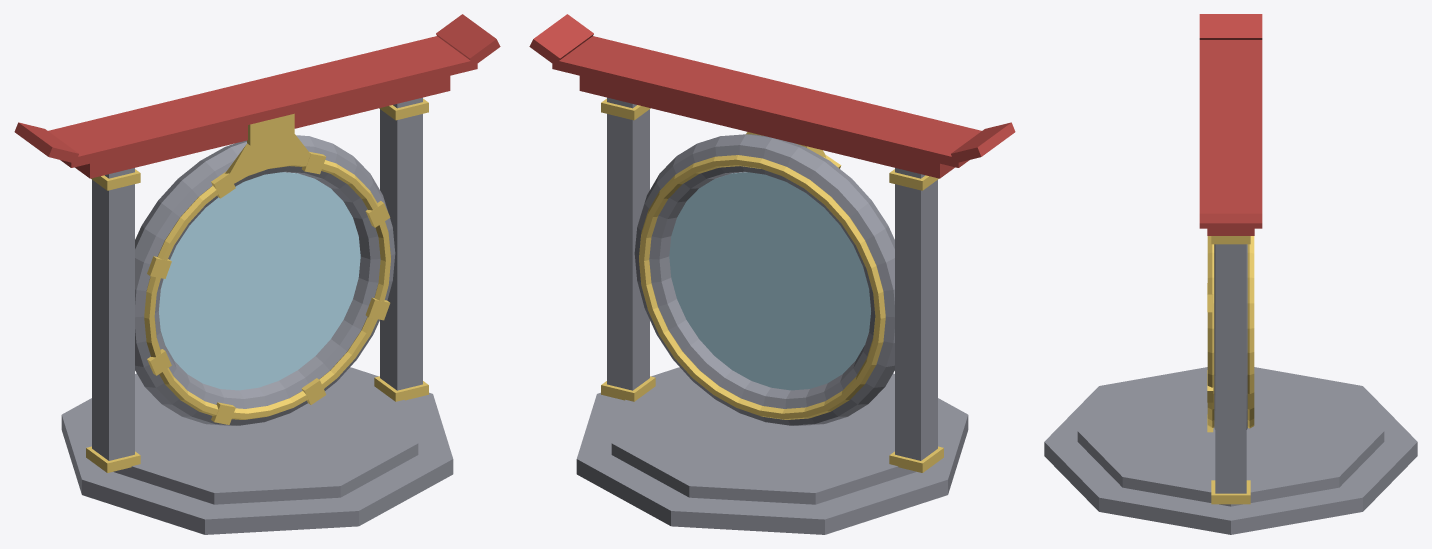
The model's file is PortalComum.fbx.
3 renders of one model, left to right at view 1: azimuth 30°, elevation 25°; view 2: azimuth 150°, elevation 25°; view 3: azimuth 270°, elevation 25°, orthographic. The views are drawn at different scales.
Visible parts, largest first — view 1: Base, Core, Roof, Ring, GoldTrim; view 2: Base, Core, Roof, Ring, GoldTrim; view 3: Base, Roof, GoldTrim, Ring.
Part boxes in pixels (x1,y1,x2,y2): Base: (61,97,453,534); Core: (159,172,360,390); Roof: (14,14,500,178); Ring: (135,135,395,425); GoldTrim: (86,98,428,472); Base: (576,97,968,534); Core: (669,172,870,390); Roof: (529,14,1015,178); Ring: (634,134,894,425); GoldTrim: (601,98,943,472); Base: (1044,244,1417,534); Roof: (1199,14,1262,235); GoldTrim: (1207,236,1254,504); Ring: (1214,244,1247,429).
Size of the model in its own units: 2446 by 1921 by 1900.
